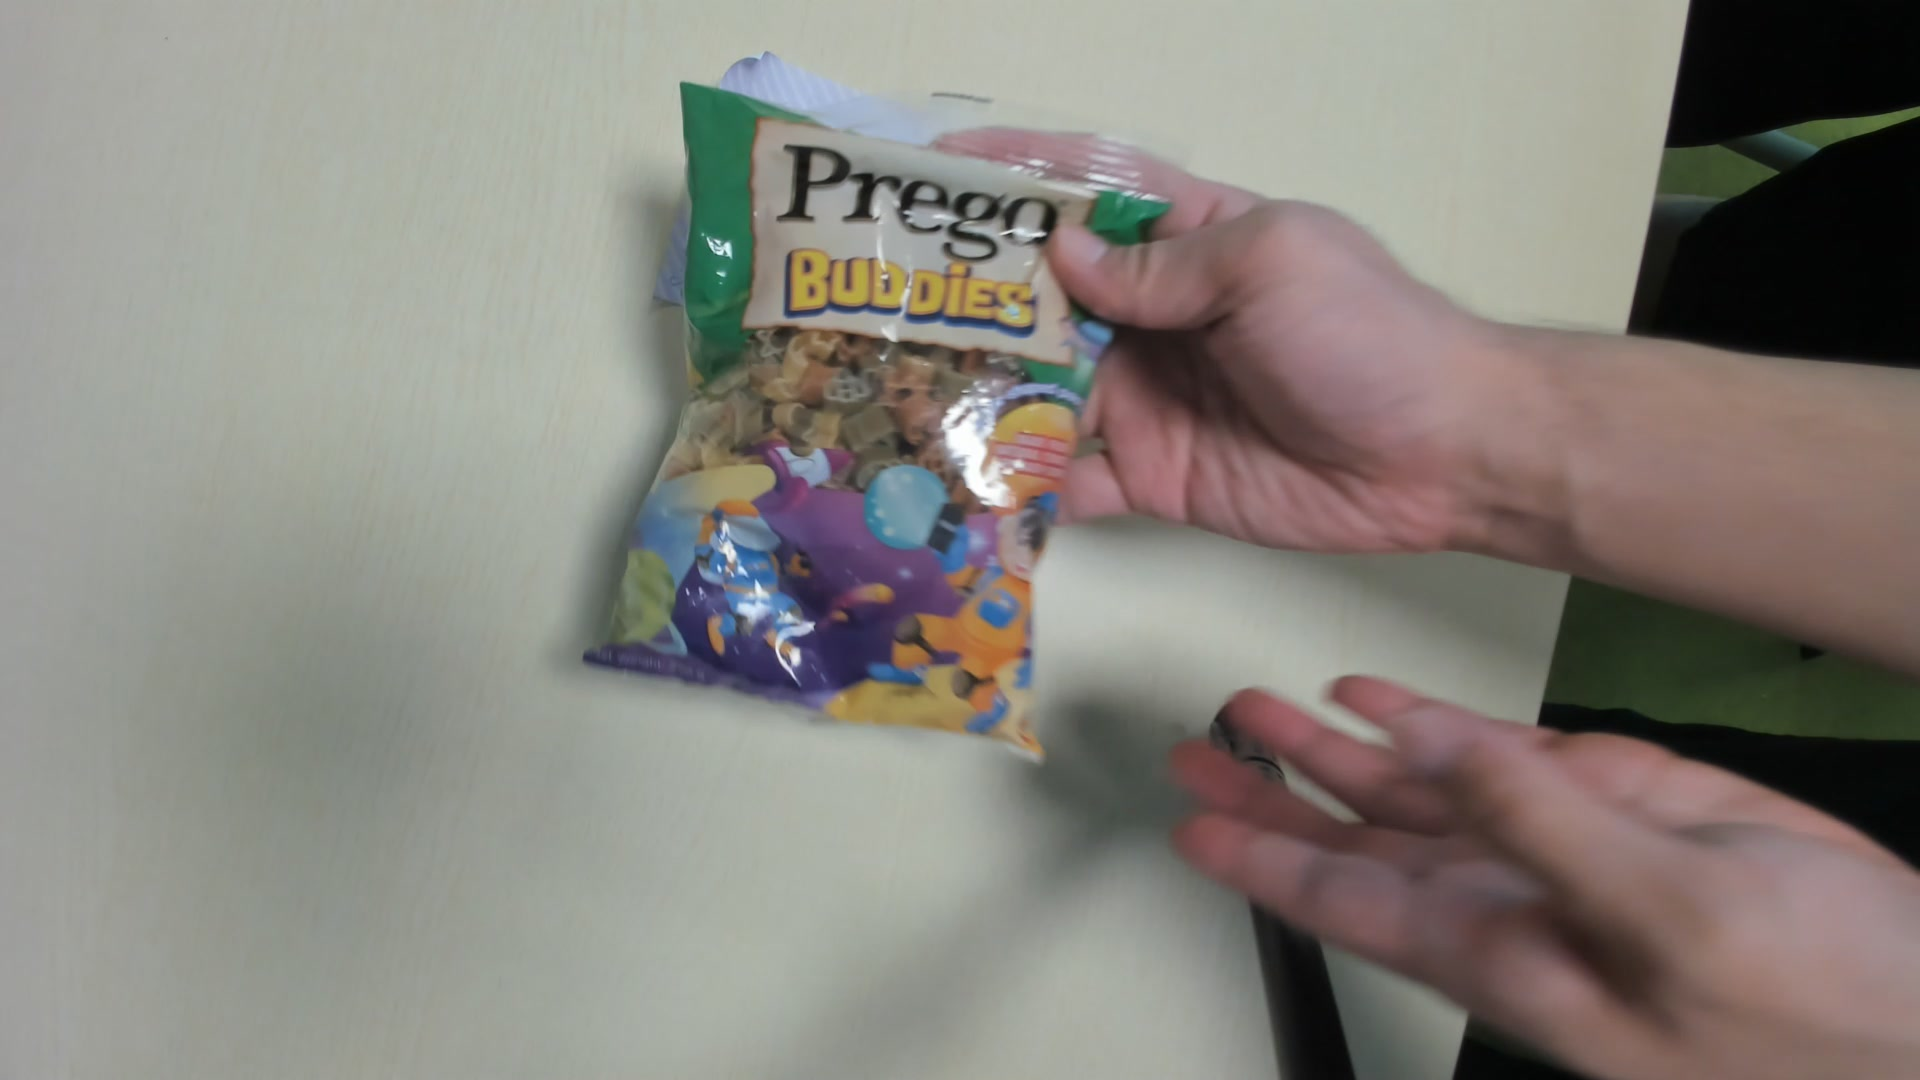Pasta_200-299g_Halal_NonHealthy: (574, 80, 1179, 767)
